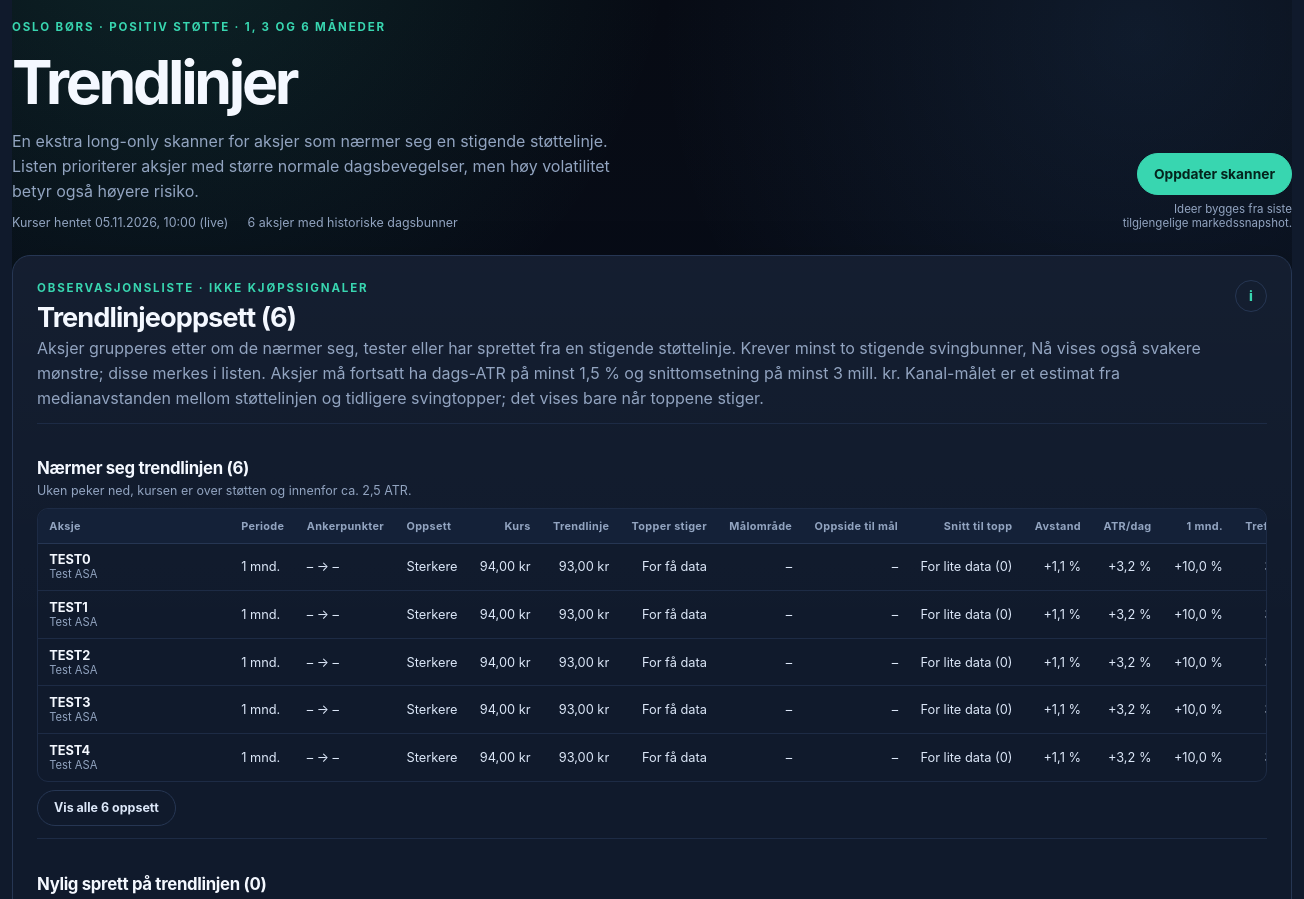
TrendlinesPage › shows the five highest-scoring setups per category before expanding
The width and height of the screenshot is (1304, 899).
Expected: the number of rows is 6, [38,509,1267,543]; [38,543,1267,591]; [38,591,1267,638]; [38,638,1267,686]; [38,686,1267,734]; [38,734,1267,781]
Click the button "Vis alle 6 oppsett": {"x": 106, "y": 808} [37,790,176,826]
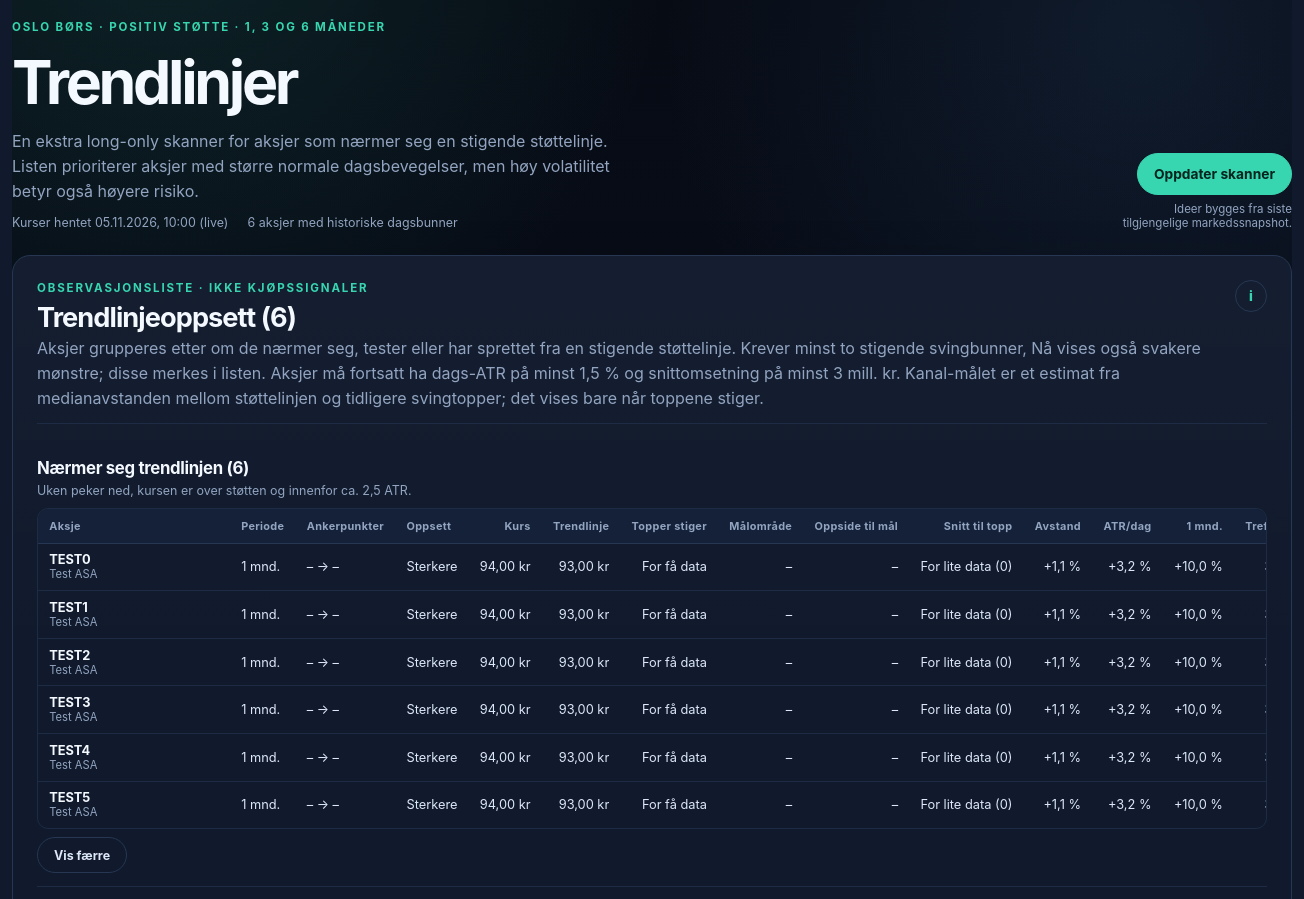
Expected: the number of rows is 7
